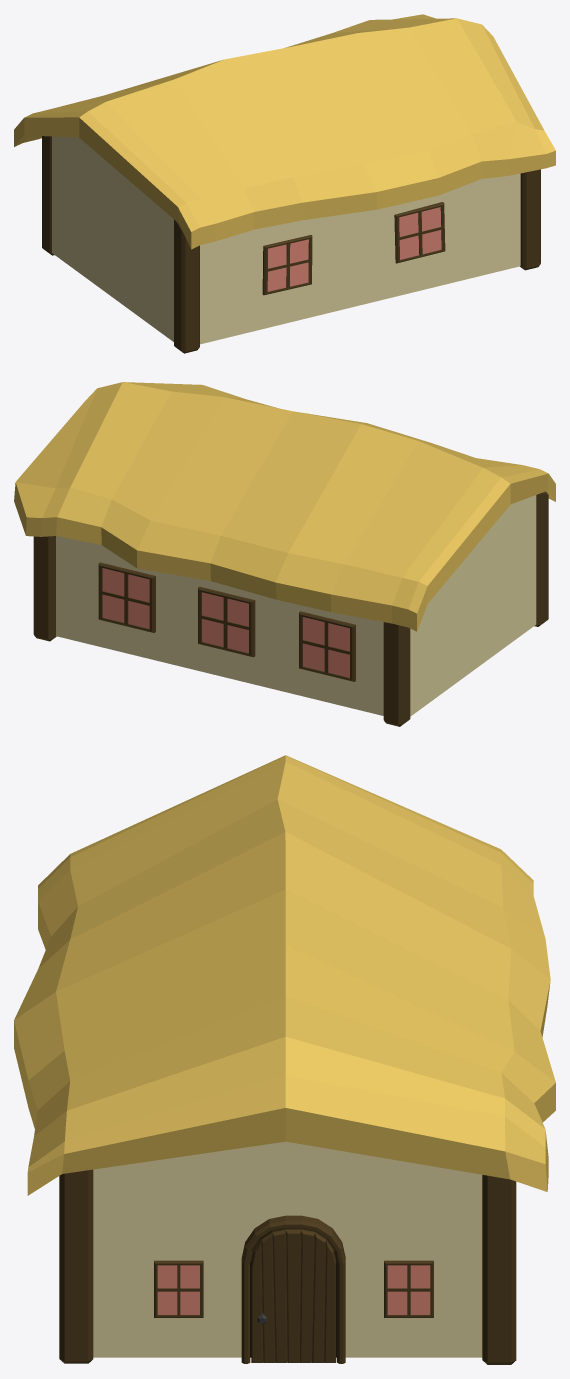
The model's file is SM_House_Farm_03.fbx.
The picture shows the model from 3 angles, top to bottom: view 1: azimuth 30°, elevation 25°; view 2: azimuth 150°, elevation 25°; view 3: azimuth 270°, elevation 25°; orthographic projection. The views are drawn at different scales.
Parts seen in each view (by area): view 1: Dach.001, House Body.001, Wood Beam.006, Wood Beam.004, Window Glass.010, Window Glass.011, Wood Beam.007, Window.010, Window.011; view 2: Dach.001, House Body.001, Wood Beam.007, Wood Beam.005, Window Glass.005, Window Glass.006, Window Glass.007, Wood Beam.006, Window.005, Window.006, Window.007; view 3: Dach.001, House Body.001, Door.002, Wood Beam.004, Wood Beam.005, Doorframe.002, Window Glass.008, Window Glass.009, Window.008, Window.009.
Part boxes in pixels (<box>): Dach.001: <box>14,14,555,249</box>; House Body.001: <box>52,136,520,344</box>; Wood Beam.006: <box>174,219,199,353</box>; Wood Beam.004: <box>520,169,540,270</box>; Window Glass.010: <box>399,207,441,259</box>; Window Glass.011: <box>267,239,308,291</box>; Wood Beam.007: <box>42,136,54,255</box>; Window.010: <box>394,202,445,263</box>; Window.011: <box>262,235,312,295</box>; Dach.001: <box>14,382,555,631</box>; House Body.001: <box>56,495,536,716</box>; Wood Beam.007: <box>383,622,410,726</box>; Wood Beam.005: <box>33,536,56,641</box>; Window Glass.005: <box>102,568,149,628</box>; Window Glass.006: <box>202,592,248,653</box>; Window Glass.007: <box>303,617,349,677</box>; Wood Beam.006: <box>534,491,548,626</box>; Window.005: <box>98,562,155,632</box>; Window.006: <box>198,586,255,657</box>; Window.007: <box>299,611,355,681</box>; Dach.001: <box>14,755,555,1195</box>; House Body.001: <box>93,1141,482,1357</box>; Door.002: <box>251,1229,336,1362</box>; Wood Beam.004: <box>59,1169,93,1363</box>; Wood Beam.005: <box>482,1175,516,1364</box>; Doorframe.002: <box>241,1215,345,1363</box>; Window Glass.008: <box>387,1265,430,1314</box>; Window Glass.009: <box>157,1265,199,1314</box>; Window.008: <box>384,1260,433,1317</box>; Window.009: <box>154,1260,203,1317</box>.
Size of the model in its own units: 706 by 352 by 504.
